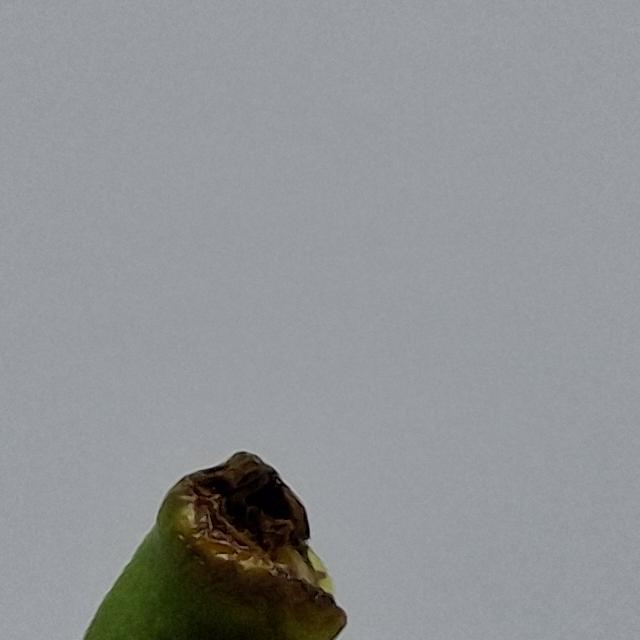mangosteen: (0, 410, 640, 640)
